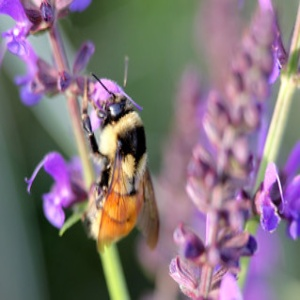bee: (100, 80, 159, 269)
